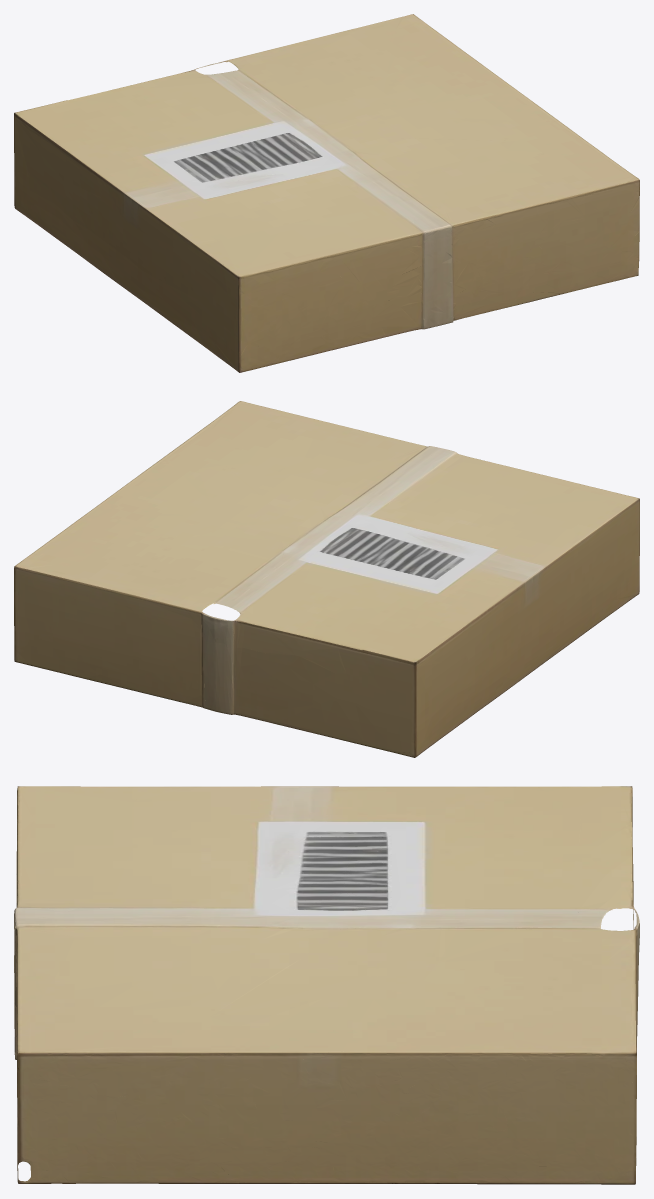
3 views of the same model, one above another, from view 1: azimuth 30°, elevation 25°; view 2: azimuth 150°, elevation 25°; view 3: azimuth 270°, elevation 25° (orthographic). The views are drawn at different scales.
Parts seen in each view (by area): view 1: geometry_0; view 2: geometry_0; view 3: geometry_0.
Boxes of the visible parts, box(x1,y1,x2,y2) form: geometry_0: box(14, 14, 639, 372); geometry_0: box(14, 401, 639, 757); geometry_0: box(14, 786, 639, 1184).
Size of the model in its own units: 0.999 by 0.2332 by 0.9869.
Materials: 1 (1 with a texture image).
